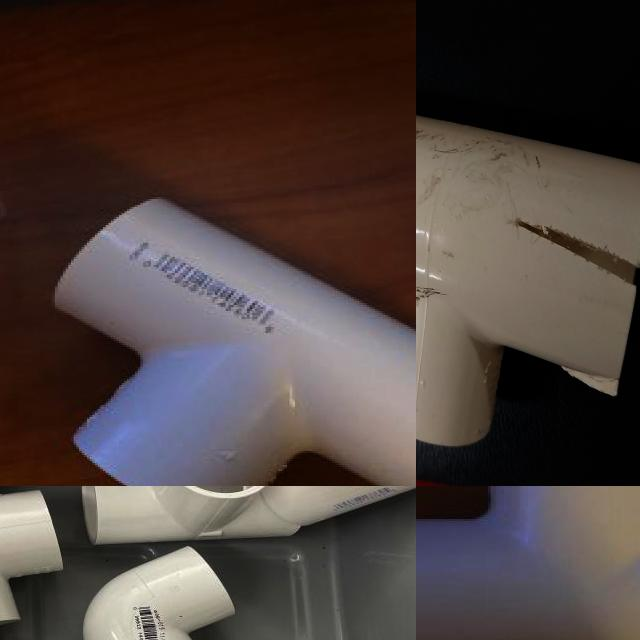L Joint: (81, 548, 235, 640)
T Joint: (51, 198, 416, 486), (416, 486, 640, 640), (0, 490, 65, 628)
